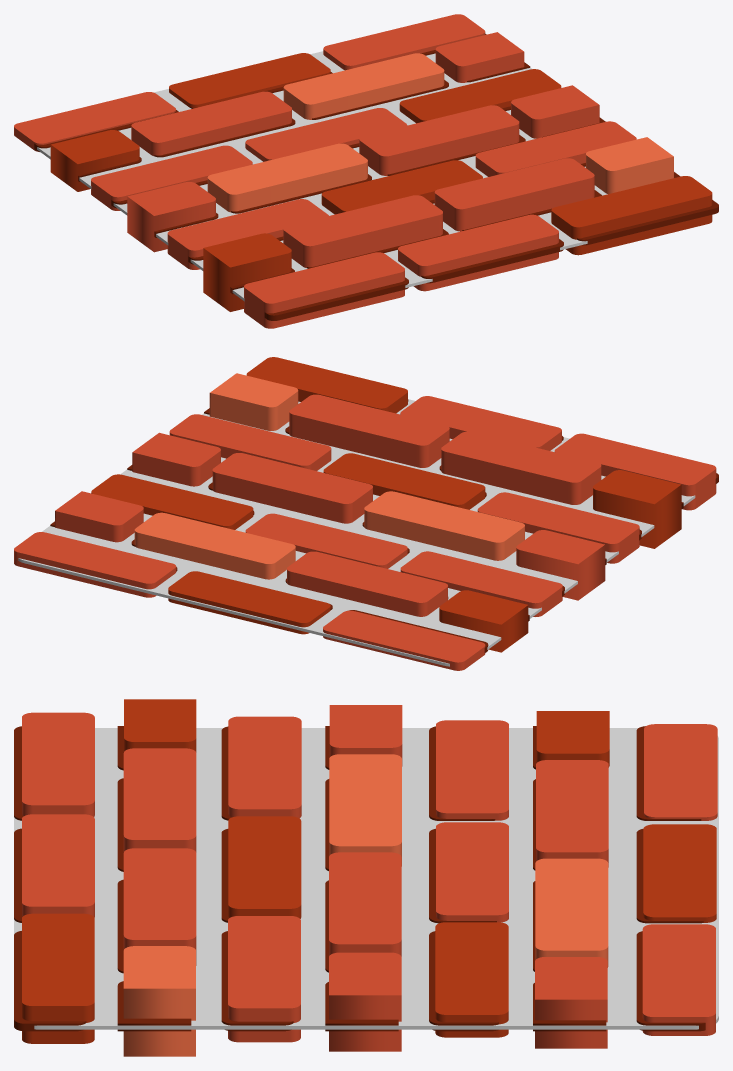
The model's file is emoji_u1f9f1.glb.
The picture shows the model from 3 angles, top to bottom: view 1: azimuth 30°, elevation 25°; view 2: azimuth 150°, elevation 25°; view 3: azimuth 270°, elevation 25°; orthographic projection. The views are drawn at different scales.
Visible parts, largest first — view 1: emoji_u1f9f1; view 2: emoji_u1f9f1; view 3: emoji_u1f9f1.
Boxes of the visible parts, left/top/right/bottom form: emoji_u1f9f1: left=14, top=14, right=718, bottom=328; emoji_u1f9f1: left=14, top=357, right=718, bottom=670; emoji_u1f9f1: left=14, top=699, right=718, bottom=1056.
Size of the model in its own units: 0.0339 by 0.0036 by 0.0339.
